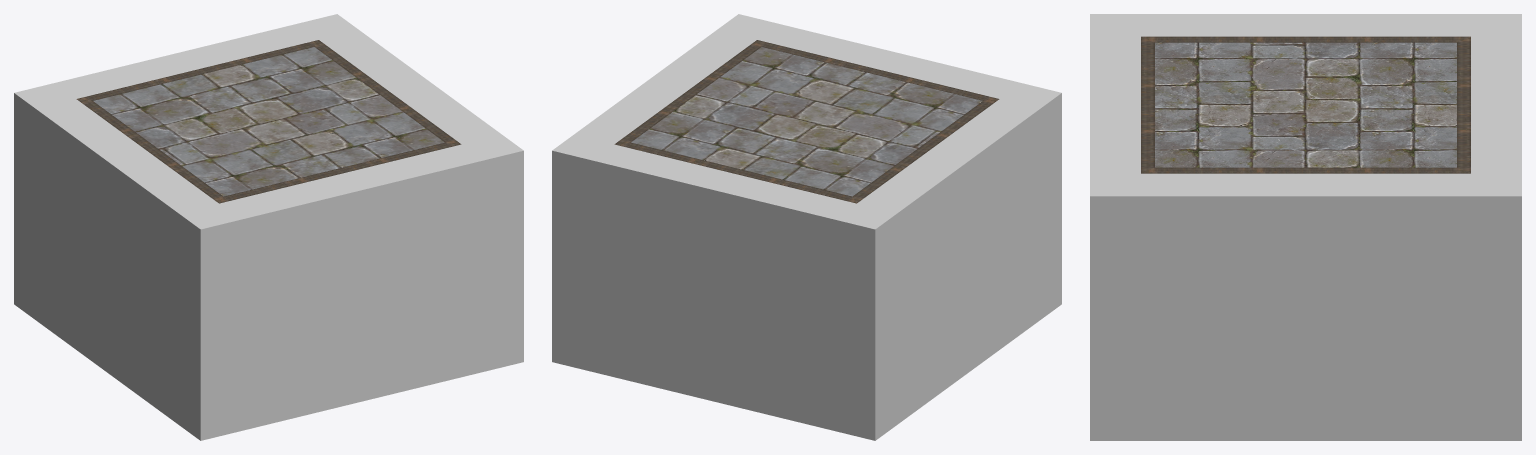
3 renders of one model, left to right at view 1: azimuth 30°, elevation 25°; view 2: azimuth 150°, elevation 25°; view 3: azimuth 270°, elevation 25°, orthographic. The views are drawn at different scales.
Parts seen in each view (by area): view 1: SM_Dowdun_Walkway_8x8x5_01_LOD0; view 2: SM_Dowdun_Walkway_8x8x5_01_LOD0; view 3: SM_Dowdun_Walkway_8x8x5_01_LOD0.
Boxes of the visible parts, <box> form: SM_Dowdun_Walkway_8x8x5_01_LOD0: <box>14,14,523,440</box>; SM_Dowdun_Walkway_8x8x5_01_LOD0: <box>552,14,1061,440</box>; SM_Dowdun_Walkway_8x8x5_01_LOD0: <box>1090,14,1521,440</box>.
Size of the model in its own units: 8 by 5 by 8.
Materials: 3 (2 with a texture image).
